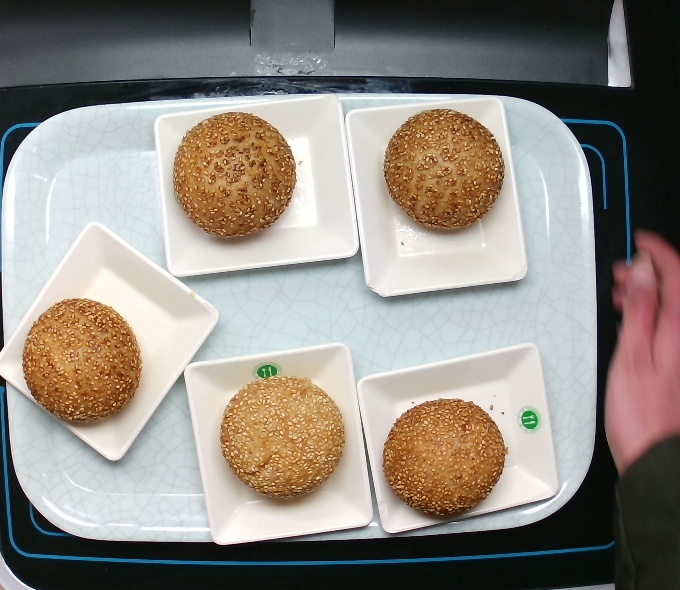wcq-MaCi: (212, 374, 347, 504), (167, 112, 295, 245), (383, 398, 512, 525), (386, 109, 513, 238), (24, 303, 143, 425)
